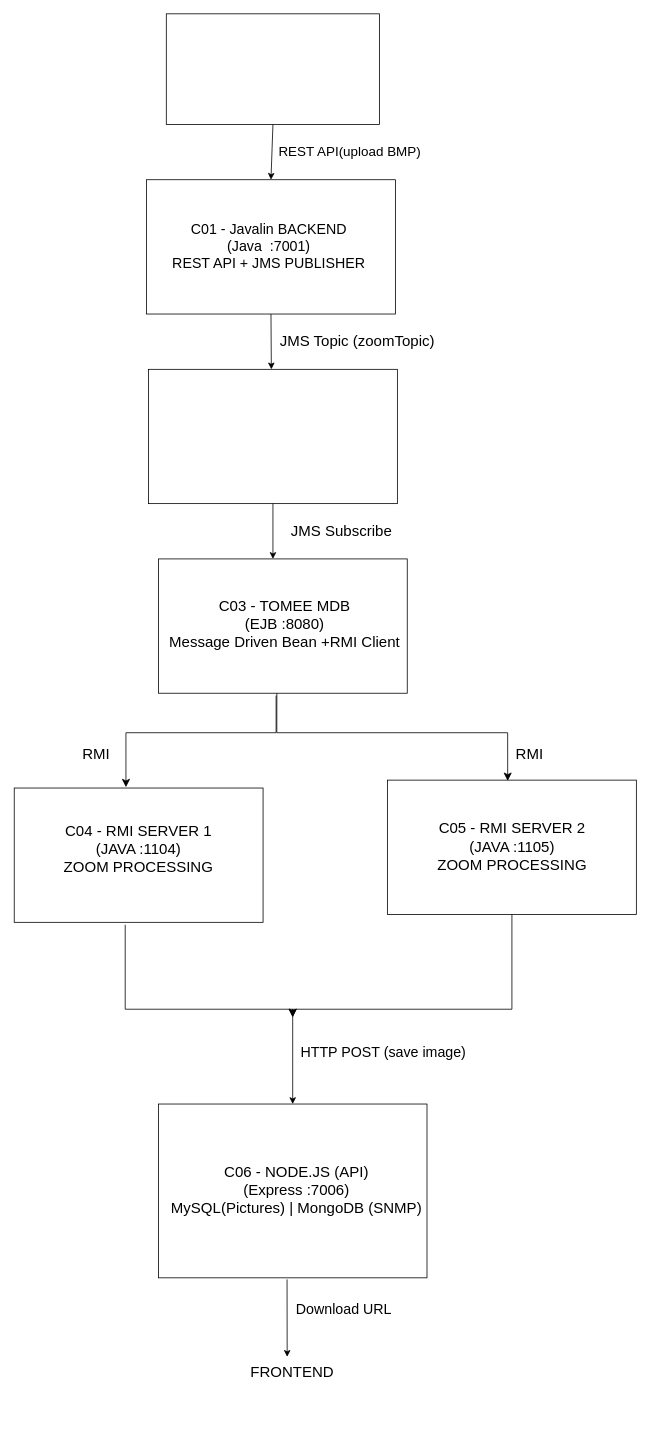
This 650x1434 diagram has some shape labels left out. Each missing label, with the centre of its shape:
C02 - ACTIVEMQ BROKER (JMS :61616, Web :8161): the point at 272,436
FRONTEND (HTML/JS: 8080): the point at 273,68
